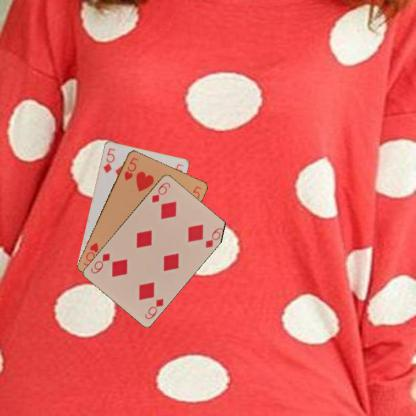5d: (101, 145, 116, 174)
5h: (122, 154, 140, 182)
6d: (148, 179, 172, 204), (142, 296, 165, 320)
